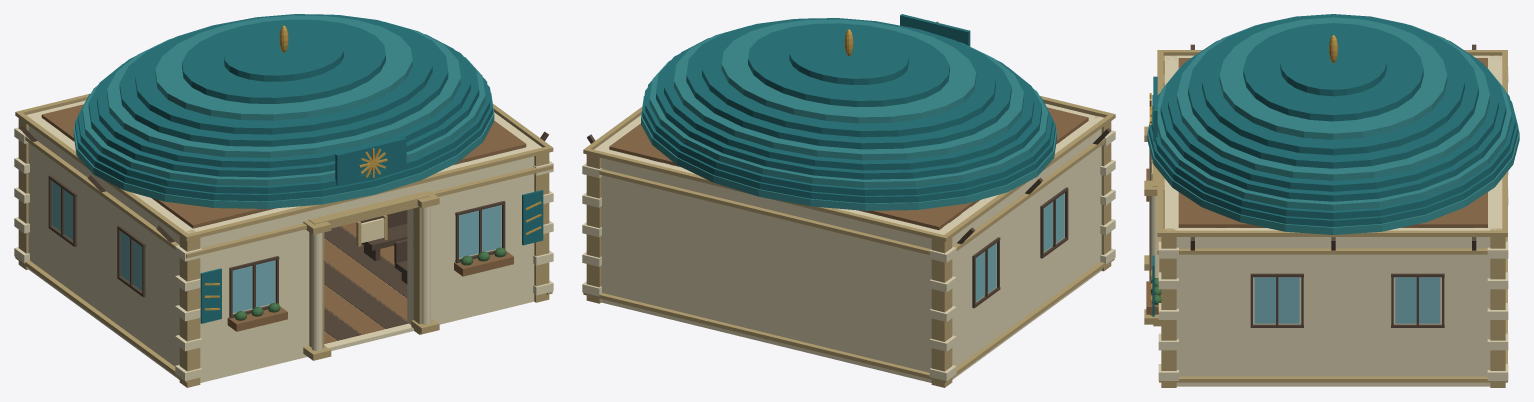
Rendered from QuestHall.glb.
3 renders of one model, left to right at view 1: azimuth 30°, elevation 25°; view 2: azimuth 150°, elevation 25°; view 3: azimuth 270°, elevation 25°, orthographic. The views are drawn at different scales.
Visible parts, largest first — view 1: QuestHall_002_Side, QuestHall_040_FrontWing, QuestHall_003_FrontWing, QuestHall_166_HarborDome, QuestHall_165_HarborDome, QuestHall_164_HarborDome, QuestHall_163_HarborDome, QuestHall_162_HarborDome, QuestHall_167_HarborDome, QuestHall_161_HarborDome, QuestHall_160_HarborDome, QuestHall_159_HarborDome (+35 smaller); view 2: QuestHall_001_Rear, QuestHall_002_Side, QuestHall_166_HarborDome, QuestHall_165_HarborDome, QuestHall_164_HarborDome, QuestHall_163_HarborDome, QuestHall_162_HarborDome, QuestHall_161_HarborDome, QuestHall_167_HarborDome, QuestHall_160_HarborDome, QuestHall_159_HarborDome, QuestHall_158_HarborDome (+19 smaller); view 3: QuestHall_039_Side, QuestHall_166_HarborDome, QuestHall_165_HarborDome, QuestHall_164_HarborDome, QuestHall_163_HarborDome, QuestHall_162_HarborDome, QuestHall_161_HarborDome, QuestHall_167_HarborDome, QuestHall_160_HarborDome, QuestHall_159_HarborDome, QuestHall_158_HarborDome, QuestHall_157_HarborDome (+16 smaller).
Boxes of the visible parts, x1,y1,x2,y2 form: QuestHall_002_Side: (27, 113, 196, 377); QuestHall_040_FrontWing: (407, 144, 541, 324); QuestHall_003_FrontWing: (186, 206, 318, 381); QuestHall_166_HarborDome: (182, 19, 385, 103); QuestHall_165_HarborDome: (155, 15, 412, 120); QuestHall_164_HarborDome: (135, 14, 432, 134); QuestHall_163_HarborDome: (119, 15, 448, 146); QuestHall_162_HarborDome: (107, 21, 460, 157); QuestHall_167_HarborDome: (224, 29, 343, 81); QuestHall_161_HarborDome: (97, 34, 470, 167); QuestHall_160_HarborDome: (88, 50, 479, 177); QuestHall_159_HarborDome: (82, 57, 485, 185); QuestHall_001_Rear: (594, 147, 946, 381); QuestHall_002_Side: (936, 116, 1103, 377); QuestHall_166_HarborDome: (748, 23, 949, 106); QuestHall_165_HarborDome: (721, 19, 976, 123); QuestHall_164_HarborDome: (702, 18, 995, 137); QuestHall_163_HarborDome: (686, 19, 1011, 149); QuestHall_162_HarborDome: (674, 25, 1023, 160); QuestHall_161_HarborDome: (664, 38, 1033, 170); QuestHall_167_HarborDome: (789, 33, 908, 84); QuestHall_160_HarborDome: (656, 53, 1041, 179); QuestHall_159_HarborDome: (649, 60, 1048, 187); QuestHall_158_HarborDome: (645, 80, 1052, 195); QuestHall_039_Side: (1164, 228, 1501, 386); QuestHall_166_HarborDome: (1243, 23, 1423, 121); QuestHall_165_HarborDome: (1219, 17, 1447, 139); QuestHall_164_HarborDome: (1202, 14, 1464, 155); QuestHall_163_HarborDome: (1188, 14, 1478, 168); QuestHall_162_HarborDome: (1177, 24, 1489, 180); QuestHall_161_HarborDome: (1168, 40, 1498, 191); QuestHall_167_HarborDome: (1280, 35, 1386, 96); QuestHall_160_HarborDome: (1160, 60, 1506, 201); QuestHall_159_HarborDome: (1157, 68, 1511, 210); QuestHall_158_HarborDome: (1151, 92, 1515, 219); QuestHall_157_HarborDome: (1148, 101, 1518, 226).
Size of the model in its own units: 32.83 by 20.6 by 26.69.
